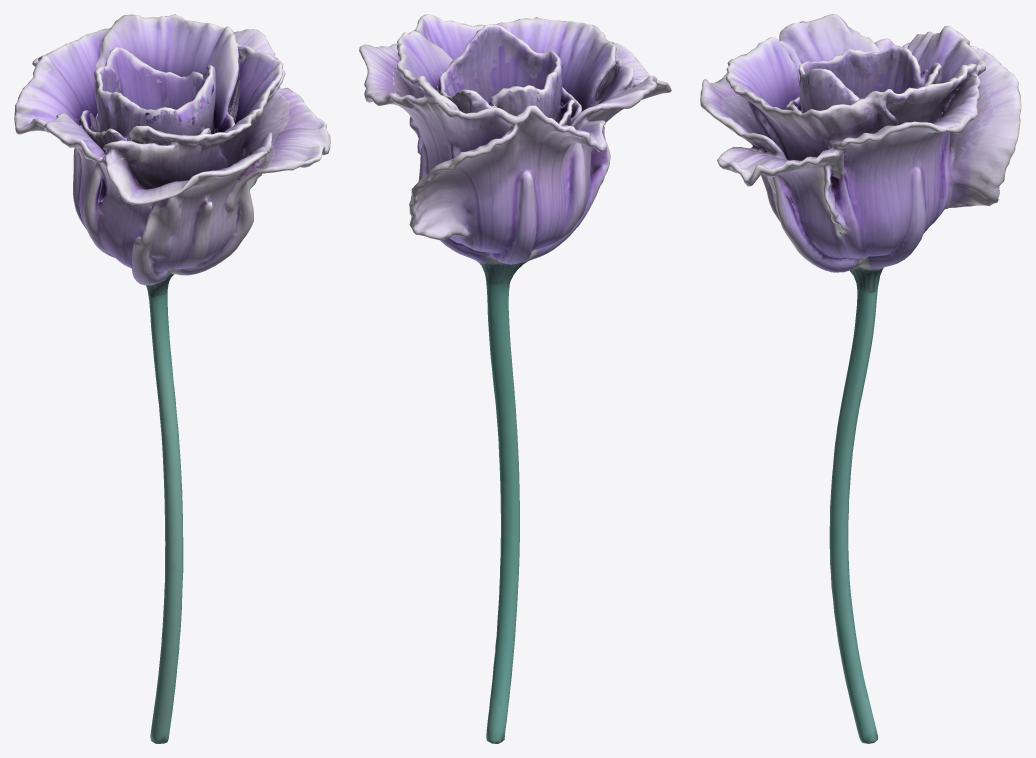
Rendered from eustoma.glb.
The picture shows the model from 3 angles, left to right: view 1: azimuth 30°, elevation 25°; view 2: azimuth 150°, elevation 25°; view 3: azimuth 270°, elevation 25°; orthographic projection.
Parts seen in each view (by area): view 1: Mesh_0; view 2: Mesh_0; view 3: Mesh_0.
Part boxes in pixels (<box>): Mesh_0: <box>14,14,330,743</box>; Mesh_0: <box>359,14,671,743</box>; Mesh_0: <box>700,14,1021,743</box>.
Size of the model in its own units: 0.1907 by 0.5 by 0.2109.
1 material, 1 textured.
